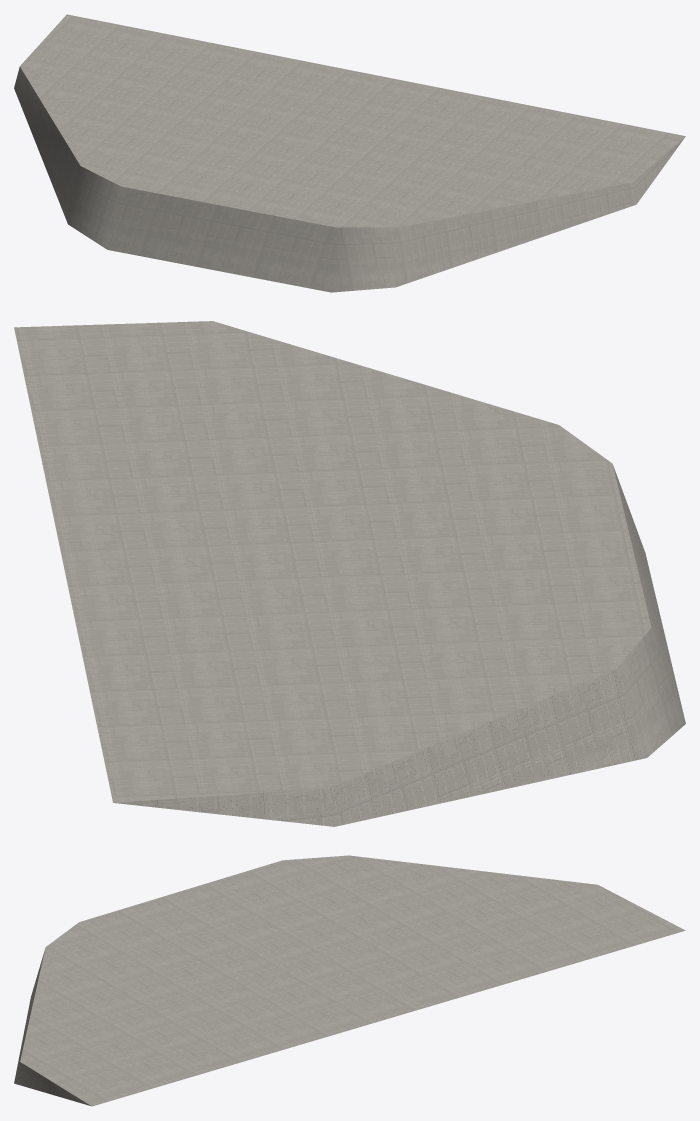
The model's file is kd_stage_1364a3_7_9.glb.
3 views of the same model, one above another, from view 1: azimuth 30°, elevation 25°; view 2: azimuth 150°, elevation 25°; view 3: azimuth 270°, elevation 25° (orthographic). The views are drawn at different scales.
Visible parts, largest first — view 1: kd_stage_1364a3_7_9; view 2: kd_stage_1364a3_7_9; view 3: kd_stage_1364a3_7_9.
Part boxes in pixels (box(x1,y1,x2,y2)): kd_stage_1364a3_7_9: box(14, 14, 685, 292); kd_stage_1364a3_7_9: box(14, 321, 685, 826); kd_stage_1364a3_7_9: box(14, 855, 685, 1106).
Bounding box in the file's own units: 33.26 × 3.59 × 36.42.
Materials: 1 (1 with a texture image).
